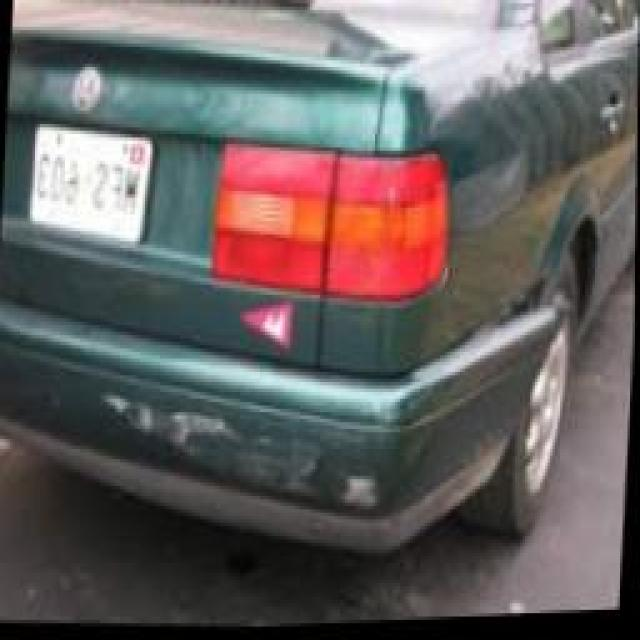Bumper: (67, 377, 393, 537)
